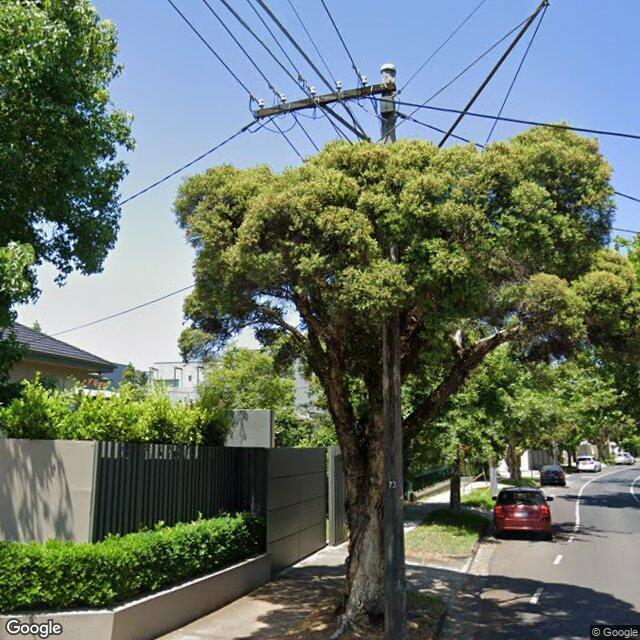crossarm: (251, 76, 397, 120)
timber-pole: (381, 65, 408, 640)
